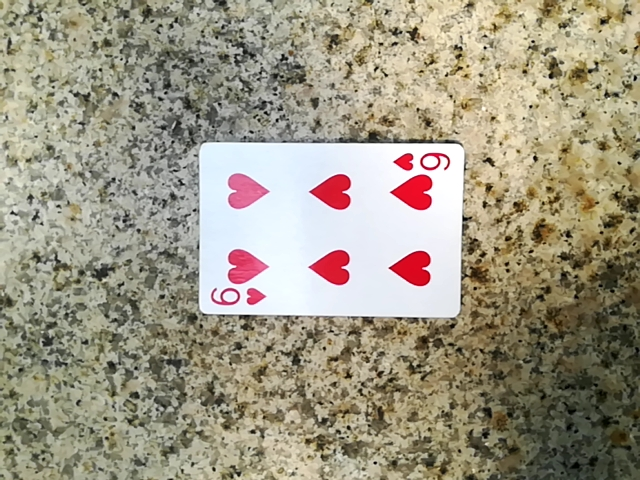hx 6: (186, 144, 455, 325)
